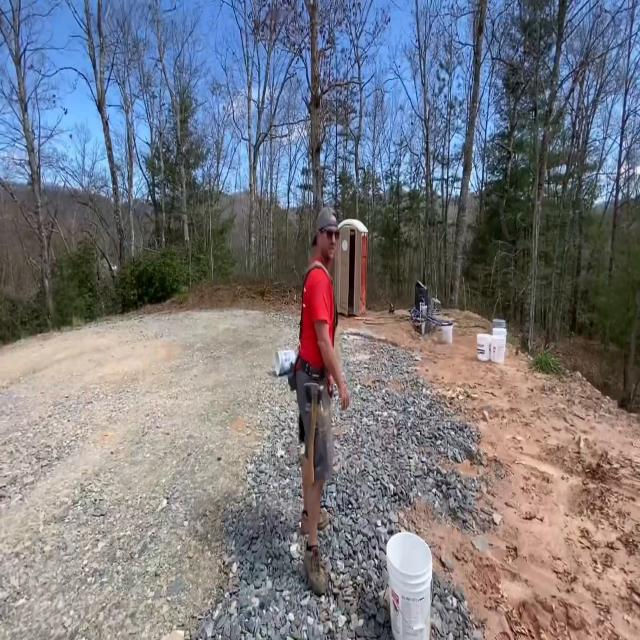hammer: (304, 384, 324, 484)
